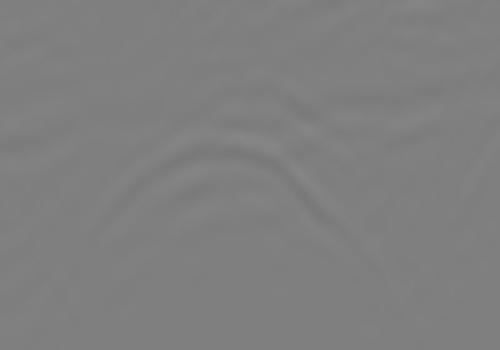hyperbola: (63, 130, 396, 304)
